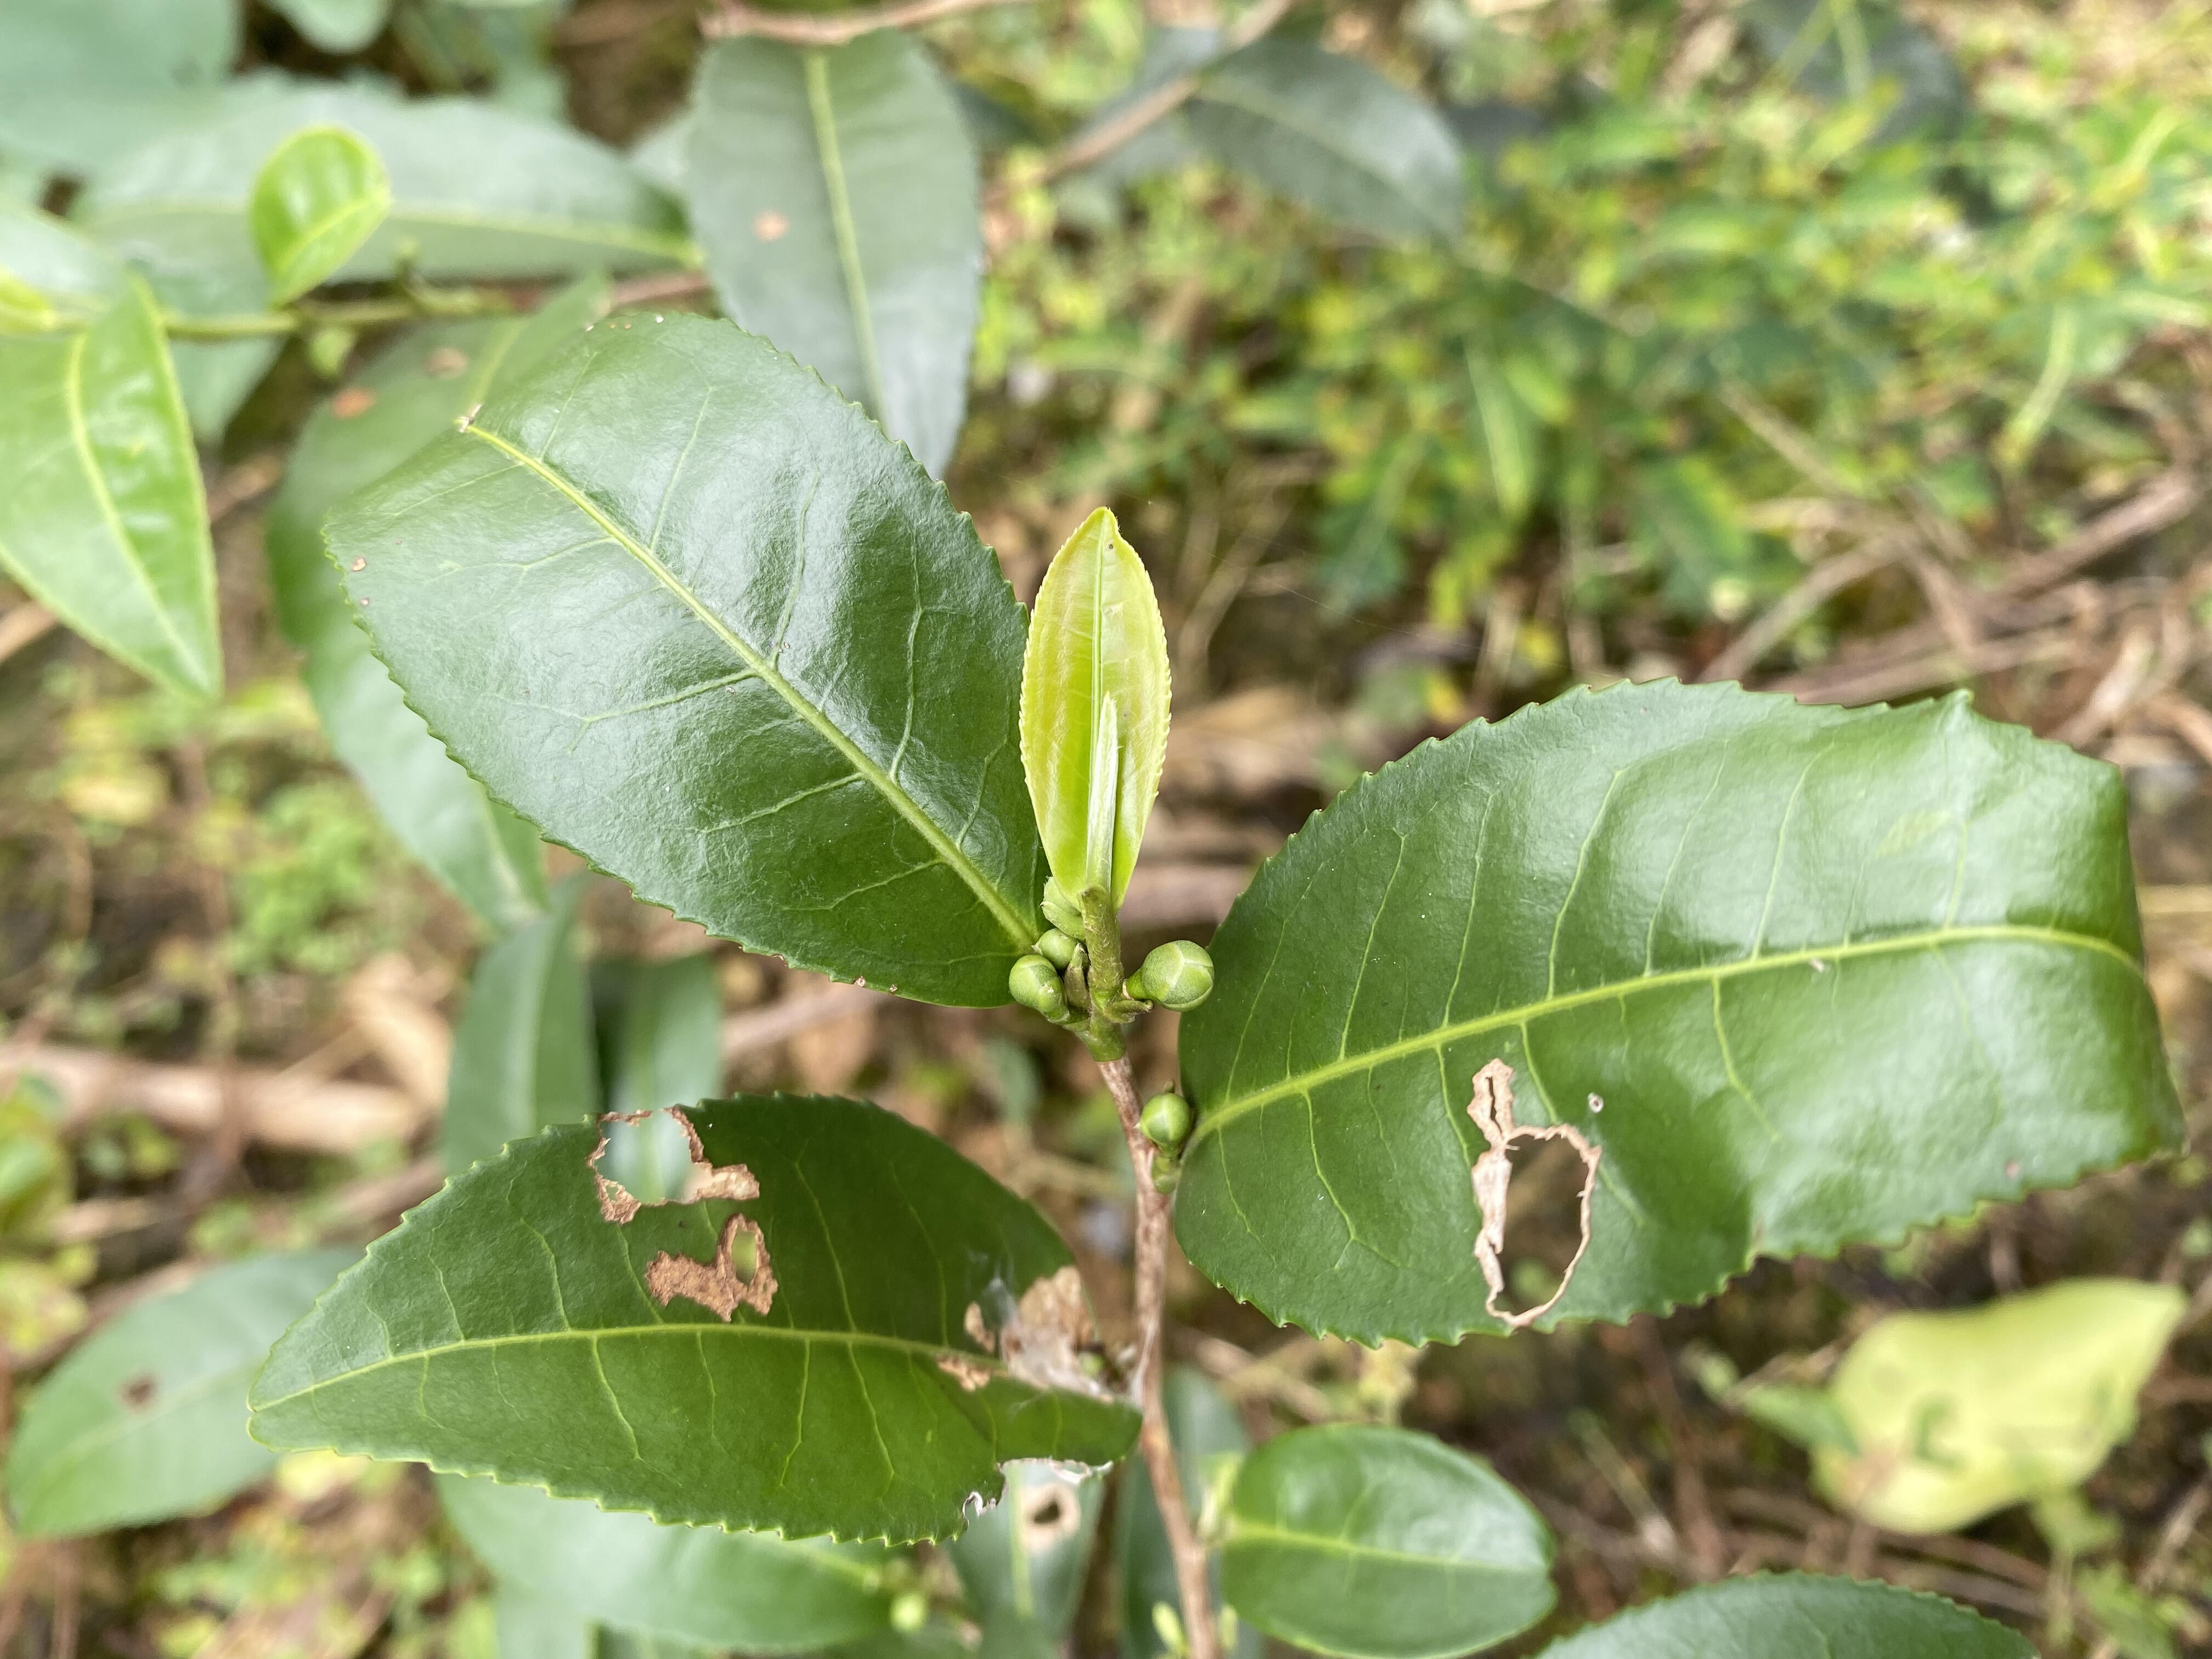healthy: (2, 281, 228, 702)
tanju_high: (1174, 678, 2191, 1358), (247, 1091, 1148, 1553)
tanju_low: (322, 307, 1031, 1007), (686, 30, 991, 477)
